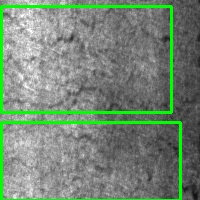crazing: (1, 6, 171, 112), (1, 122, 180, 200)
